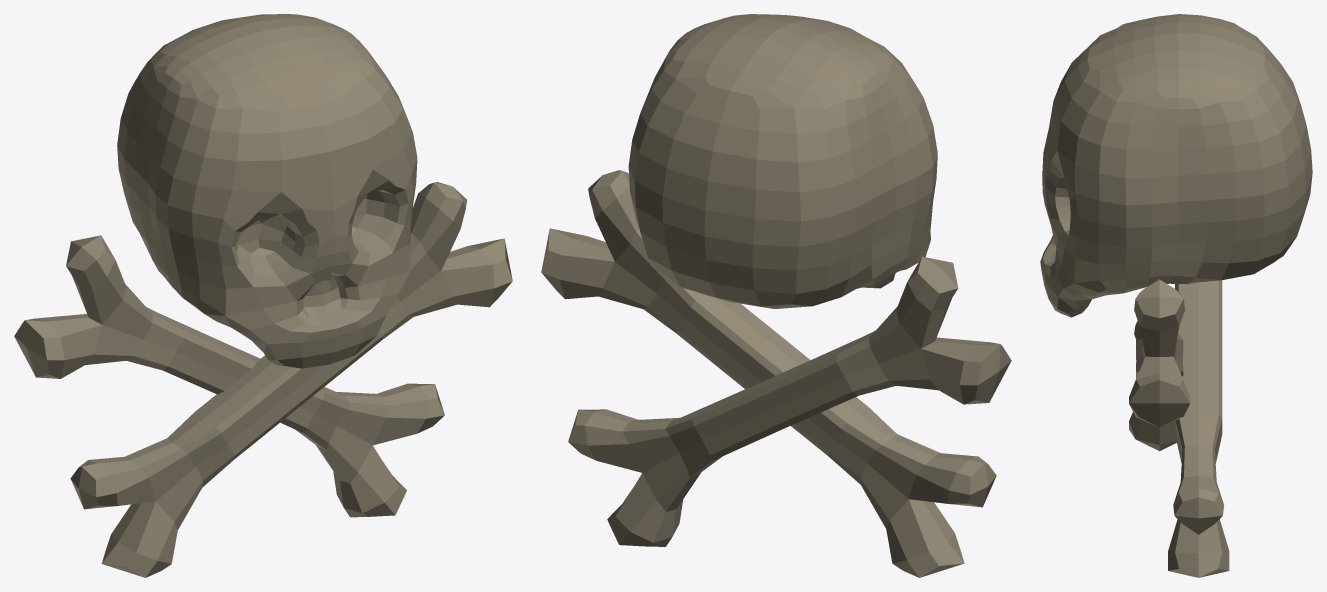
Rendered from skull2-13a9ab60ee.glb.
3 renders of one model, left to right at view 1: azimuth 30°, elevation 25°; view 2: azimuth 150°, elevation 25°; view 3: azimuth 270°, elevation 25°, orthographic. The views are drawn at different scales.
Parts seen in each view (by area): view 1: Skull2.obj; view 2: Skull2.obj; view 3: Skull2.obj.
Part boxes in pixels (x1,y1,x2,y2): Skull2.obj: [14, 14, 512, 577]; Skull2.obj: [541, 14, 1011, 577]; Skull2.obj: [1040, 14, 1312, 577].
Size of the model in its own units: 0.8581 by 0.9274 by 0.4708.
